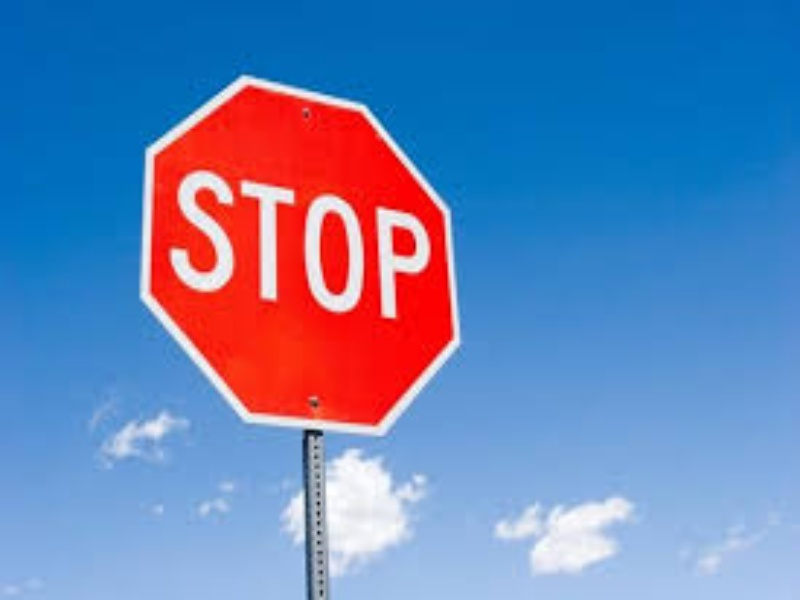Stop_Sign: (141, 79, 456, 437)
